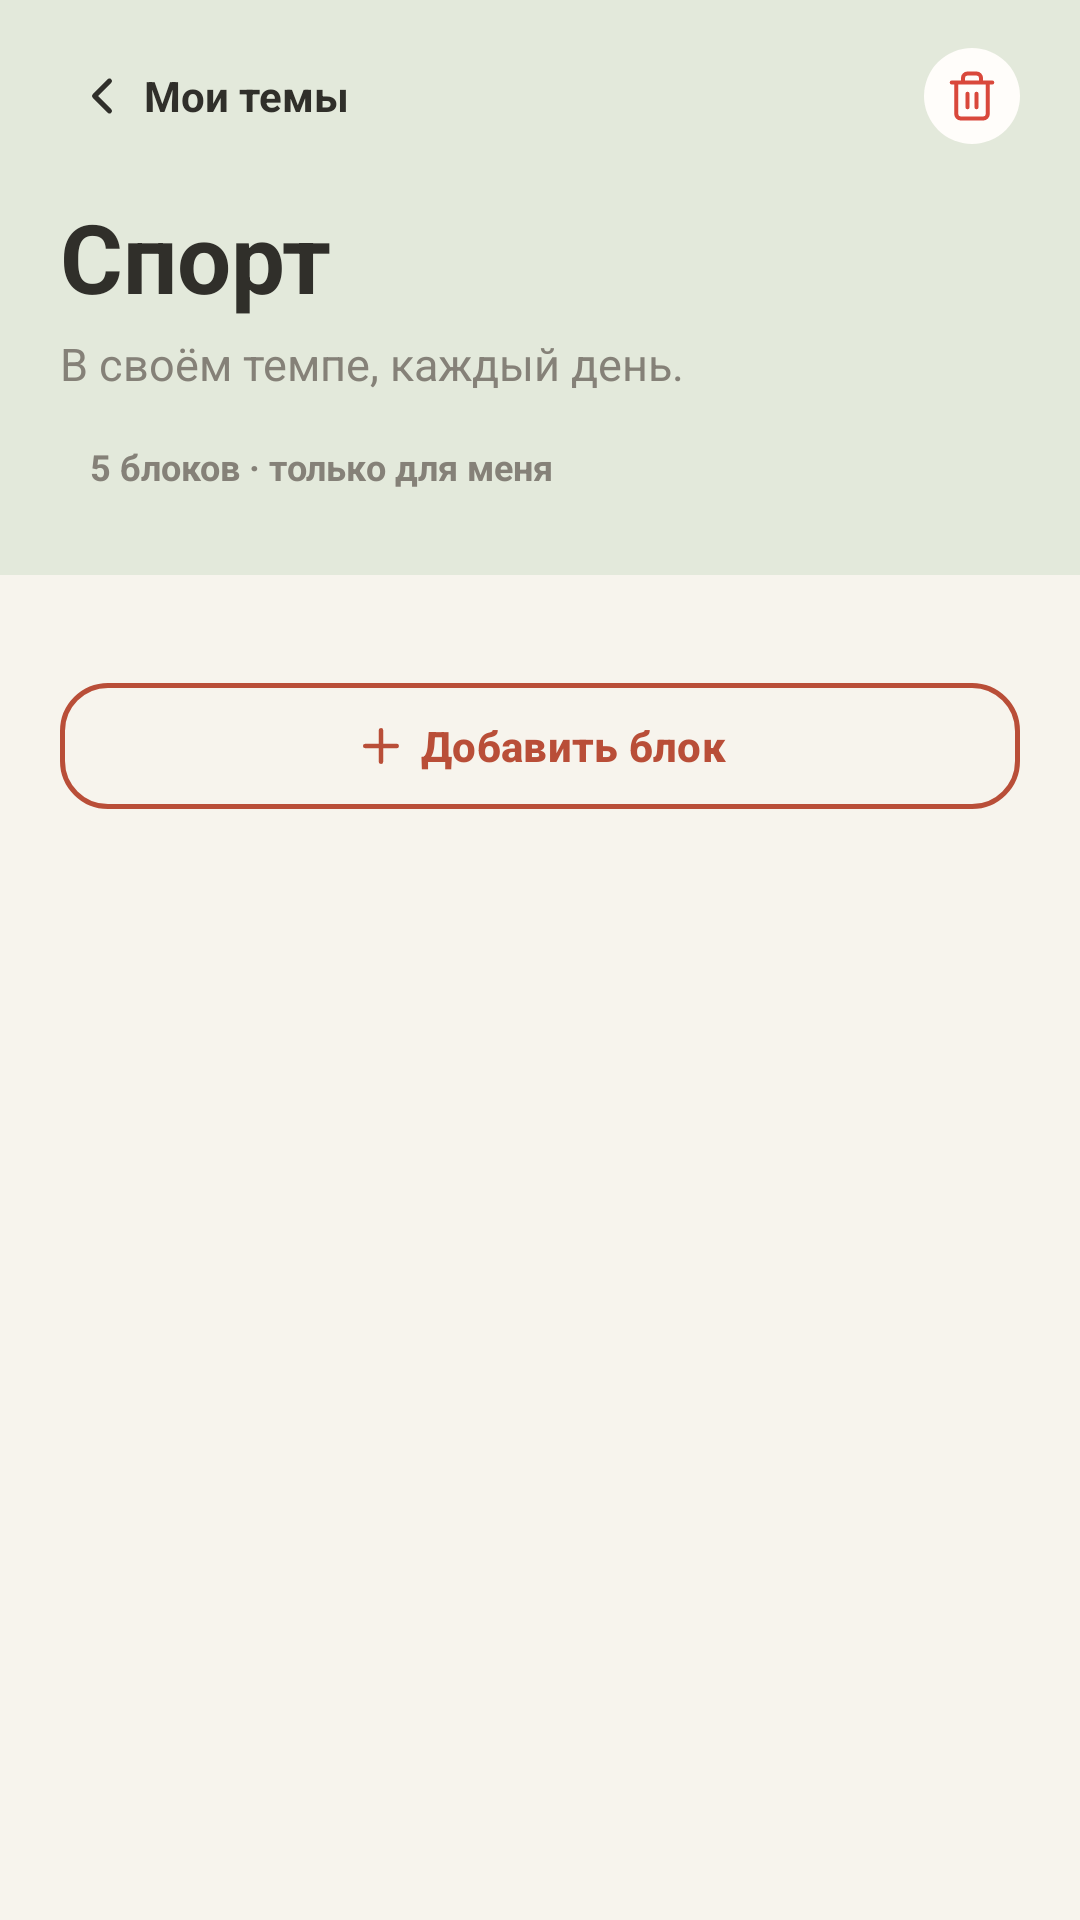

Named icons in this screenshot (1080 x 1920) and their bounding boxes, (x1, y1, x2, y2):
chevron left: (92, 78, 112, 114)
Удалить: (924, 48, 1020, 144)
